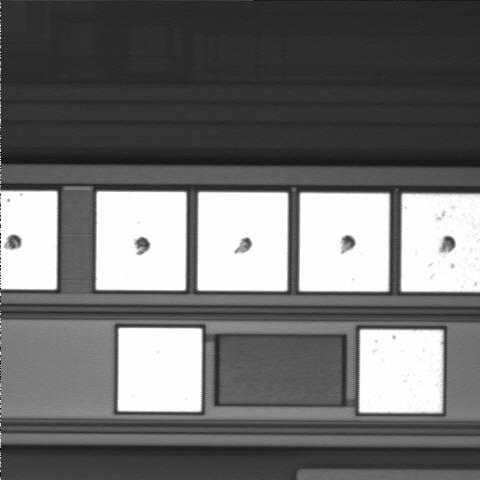pad: (198, 192, 288, 291), (96, 192, 186, 290), (299, 193, 389, 291), (118, 328, 202, 412), (359, 330, 443, 413)
